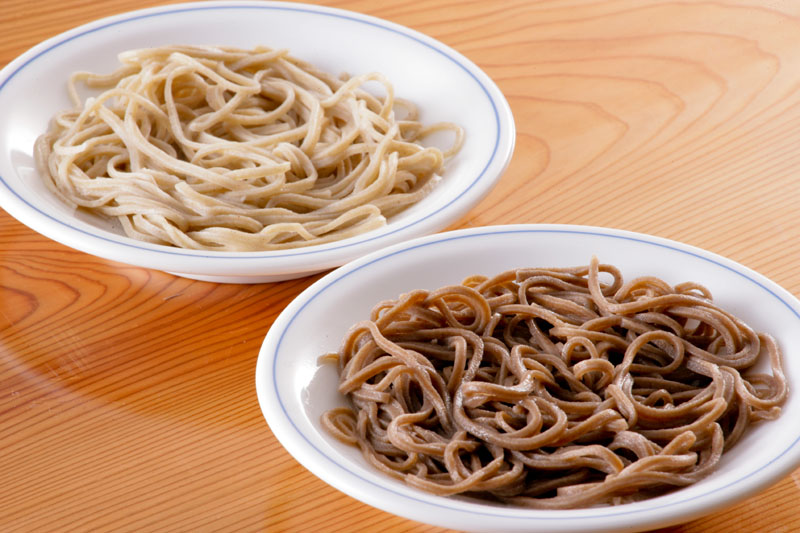Soba: (343, 272, 788, 487), (58, 43, 476, 237)
